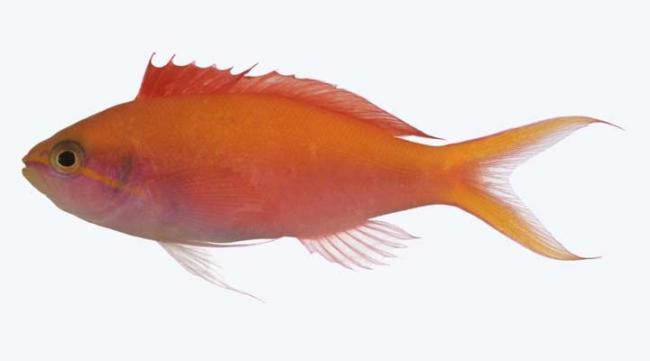fish: (21, 51, 626, 302)
